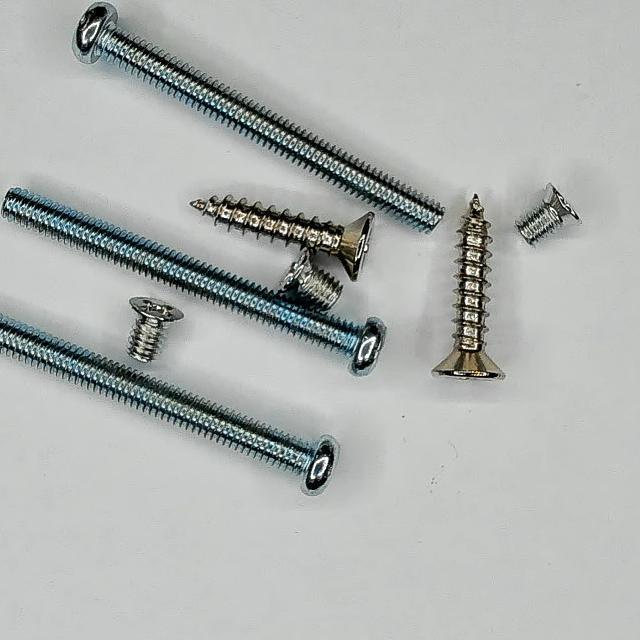Screw: (72, 2, 445, 232), (1, 187, 386, 376), (0, 314, 339, 496), (190, 195, 375, 280), (433, 195, 505, 379), (517, 183, 581, 244), (283, 248, 343, 312), (128, 297, 184, 362)
